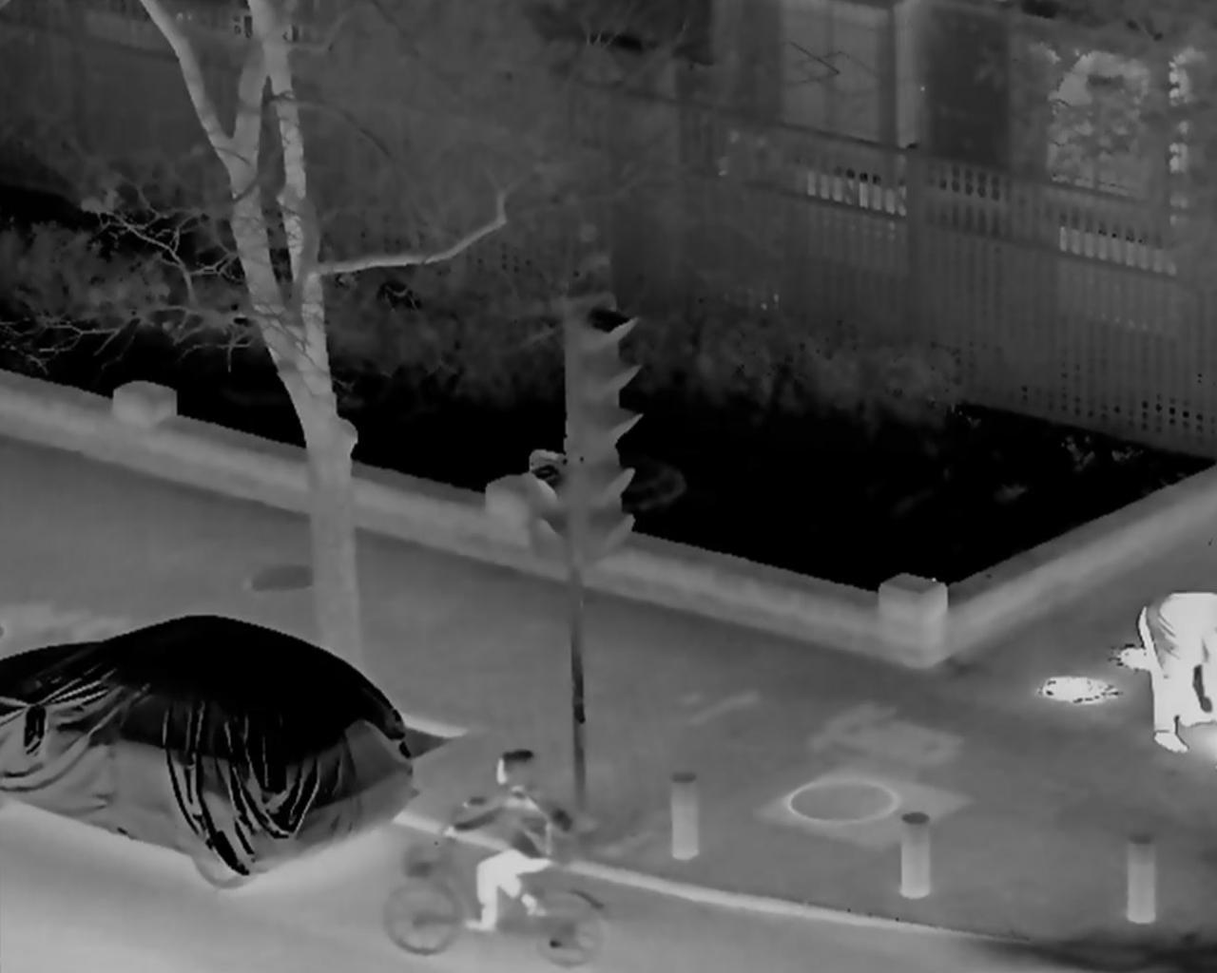person: (444, 750, 566, 935), (1130, 584, 1212, 749)
